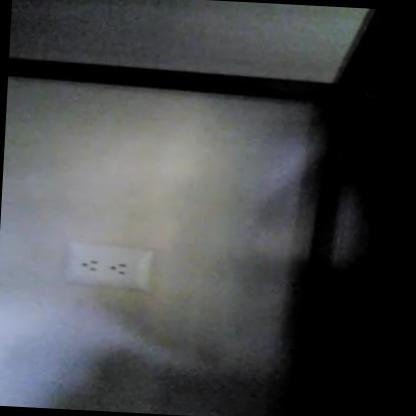OUTLET: (58, 240, 152, 290)
